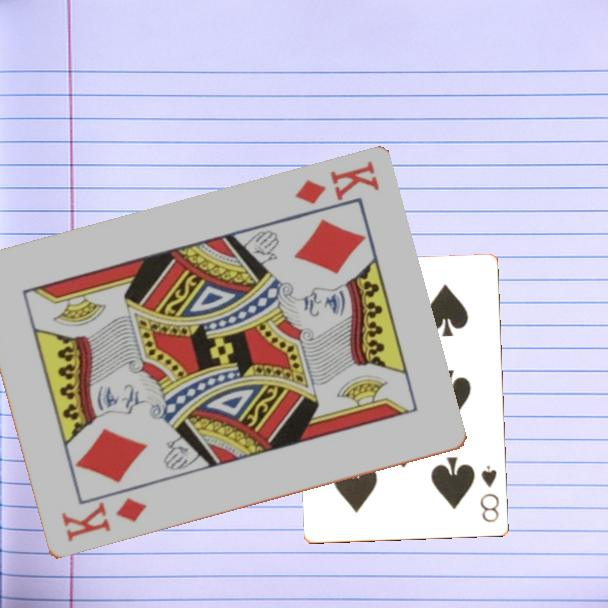d13: (57, 495, 149, 545), (291, 158, 382, 208)
s08: (477, 463, 503, 525)
